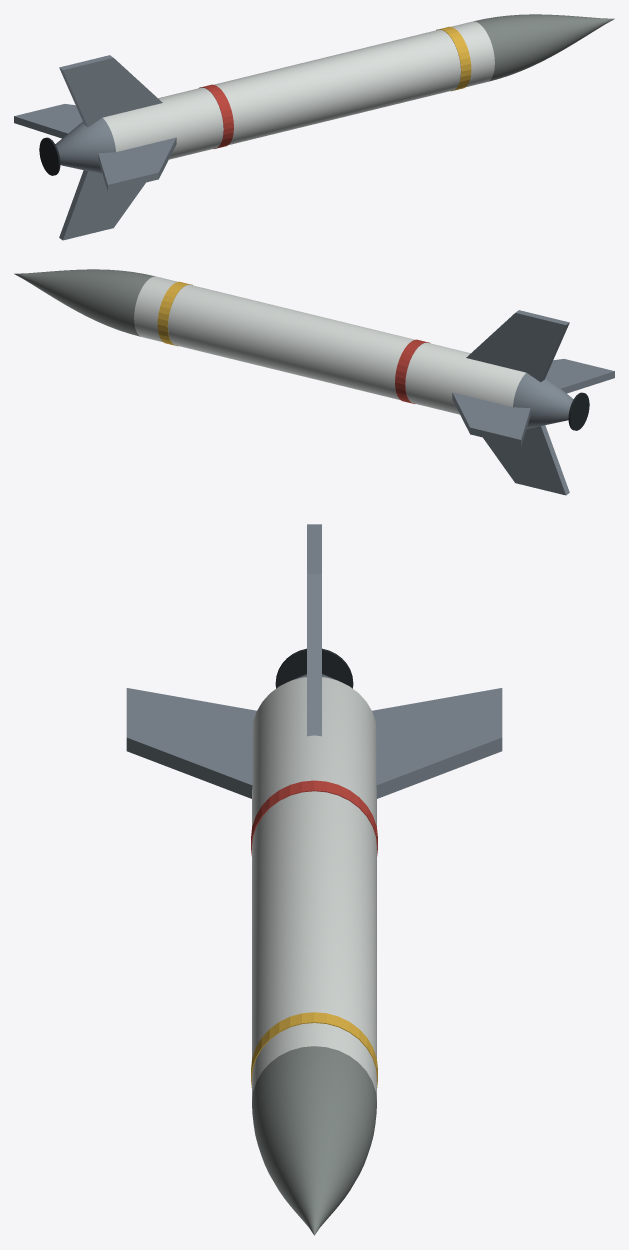
The model's file is cw90_aim54a.glb.
The picture shows the model from 3 angles, top to bottom: view 1: azimuth 30°, elevation 25°; view 2: azimuth 150°, elevation 25°; view 3: azimuth 270°, elevation 25°; orthographic projection. The views are drawn at different scales.
Visible parts, largest first — view 1: cw90_aim54a; view 2: cw90_aim54a; view 3: cw90_aim54a.
Part boxes in pixels (<box>): cw90_aim54a: <box>14,14,614,240</box>; cw90_aim54a: <box>14,269,614,495</box>; cw90_aim54a: <box>126,524,502,1235</box>.
Bounding box in the file's own units: 10 × 2.88 × 2.88.
